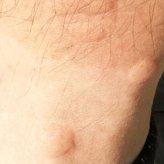Mosquito: (39, 126, 80, 158), (126, 56, 156, 88)
